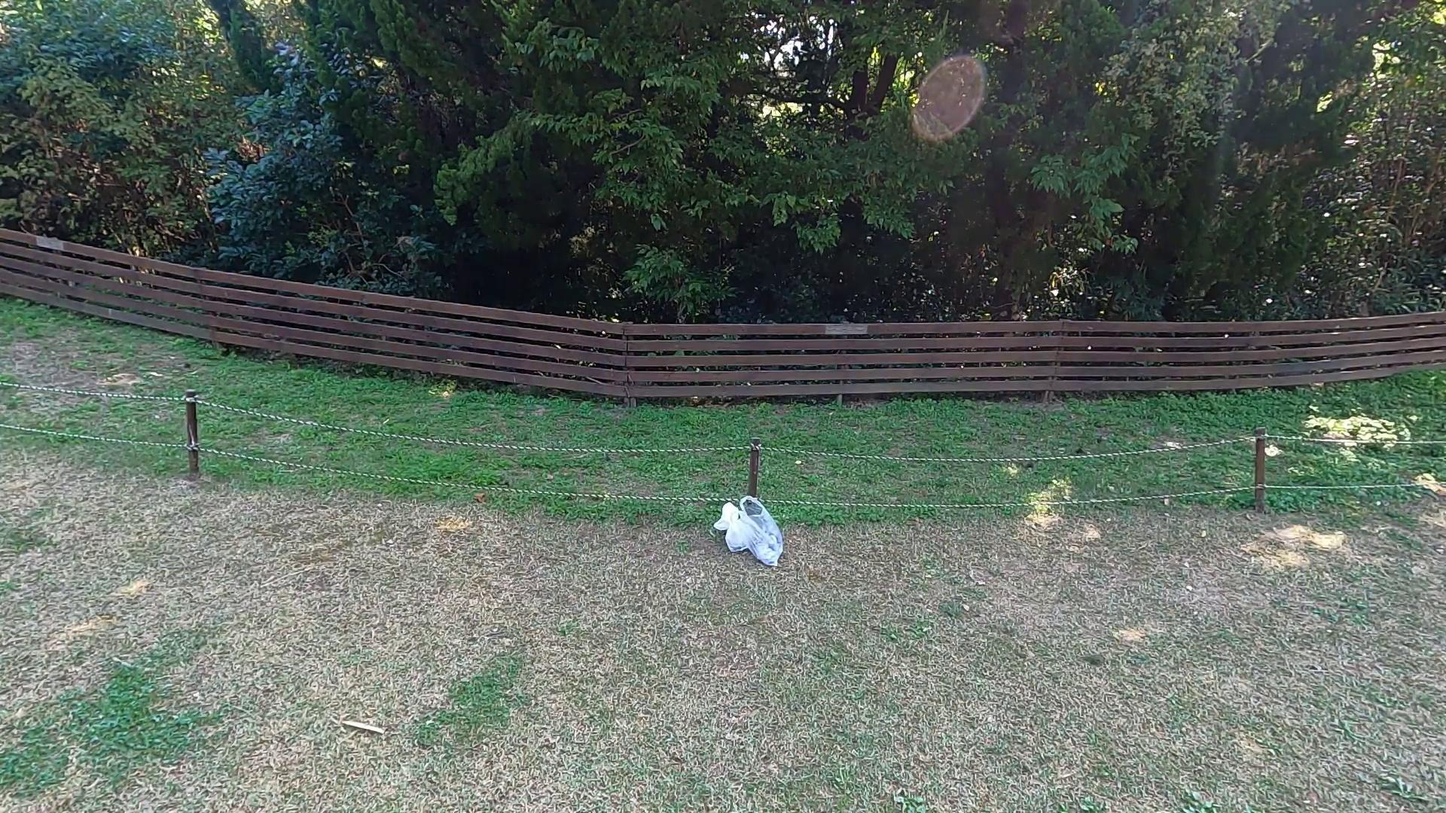trash: (734, 492, 786, 567), (712, 497, 756, 552)
